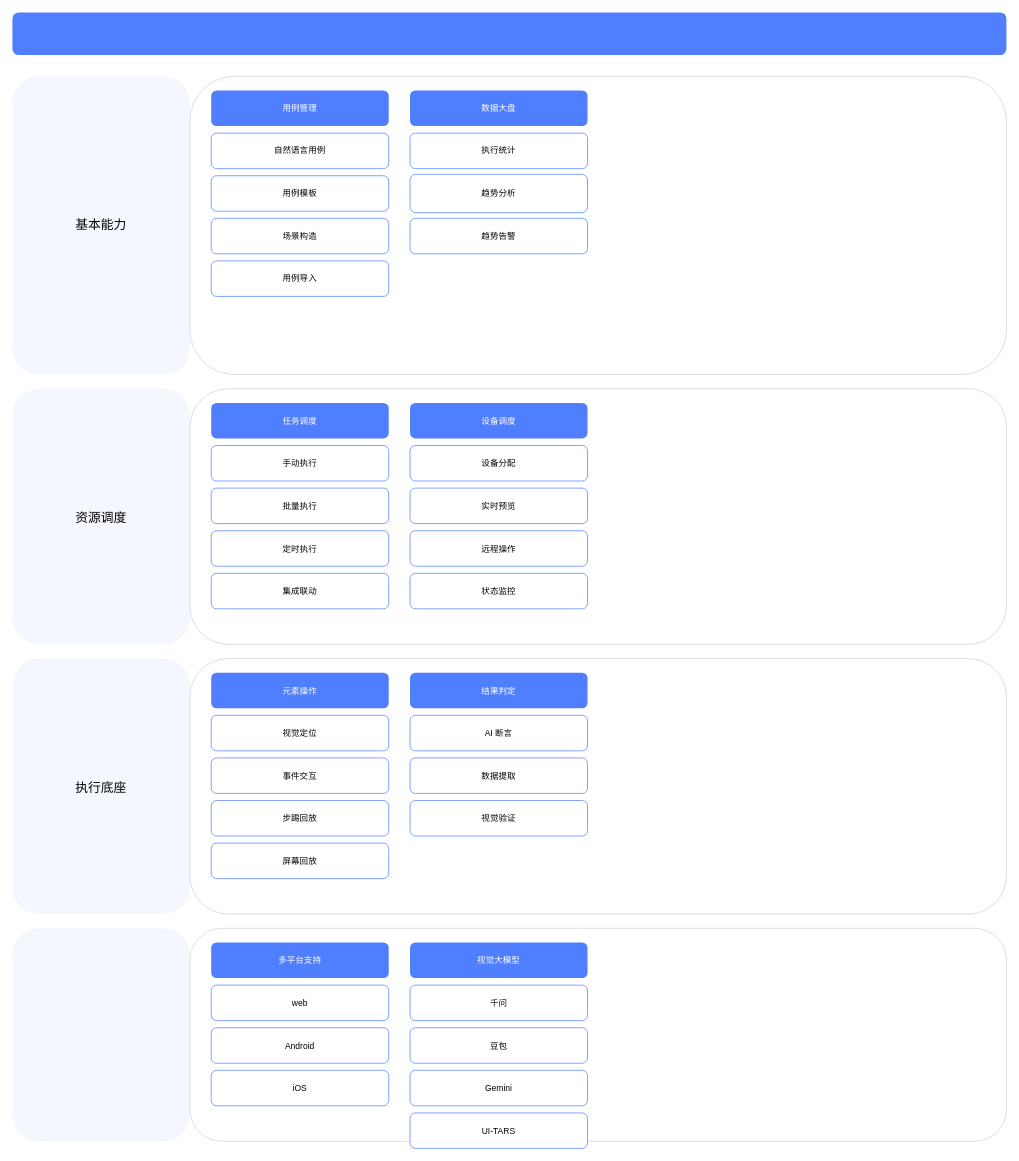
Image size: 1019x1161. Some labels were removed from this diagram. Here are the shapes that lost their labels. From the top down, the centre of each, then its label:
At pixel 509 33: "AI自动化测试平台能力".
At pixel 101 1034: "设备支持".
